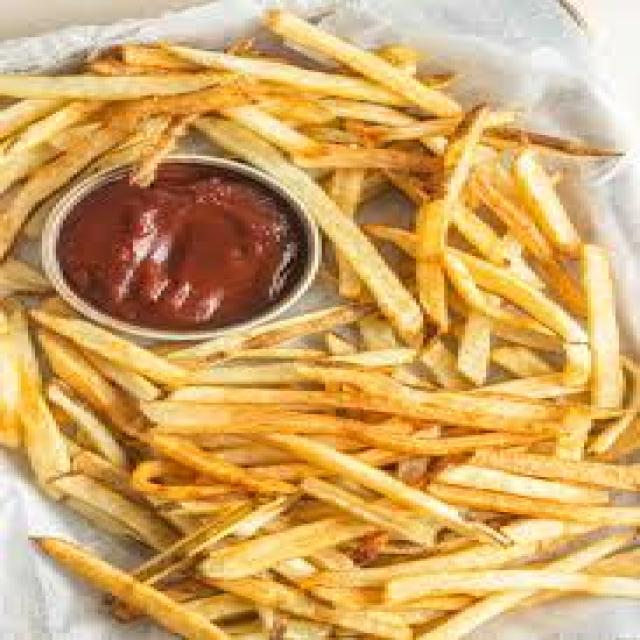감자튀김: (0, 10, 639, 640)
